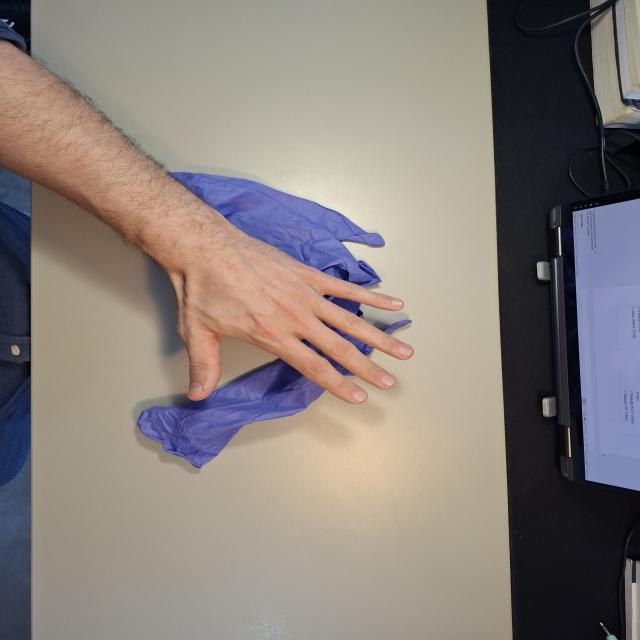glove_off: (160, 232, 418, 406)
